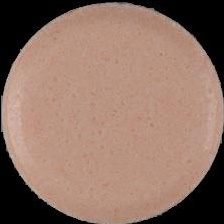0603-3857: (0, 0, 224, 224)
